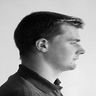ear: (32, 34, 53, 57)
